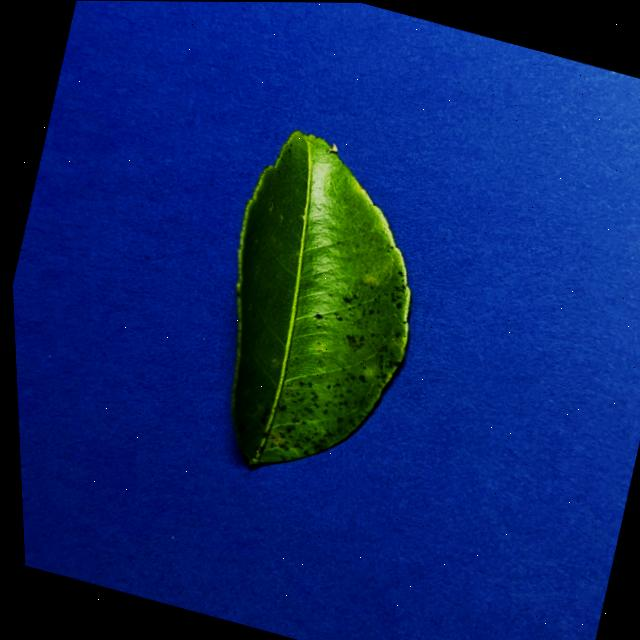sooty_mold: (232, 131, 409, 464)
